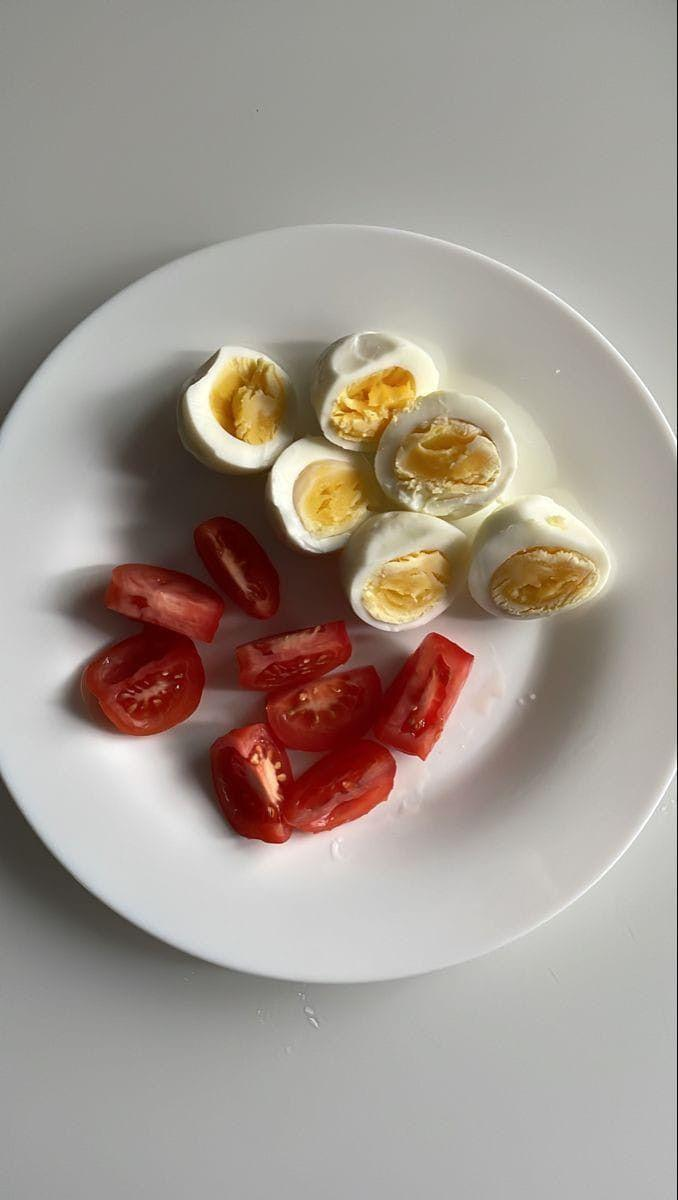eggs: (198, 298, 598, 600)
